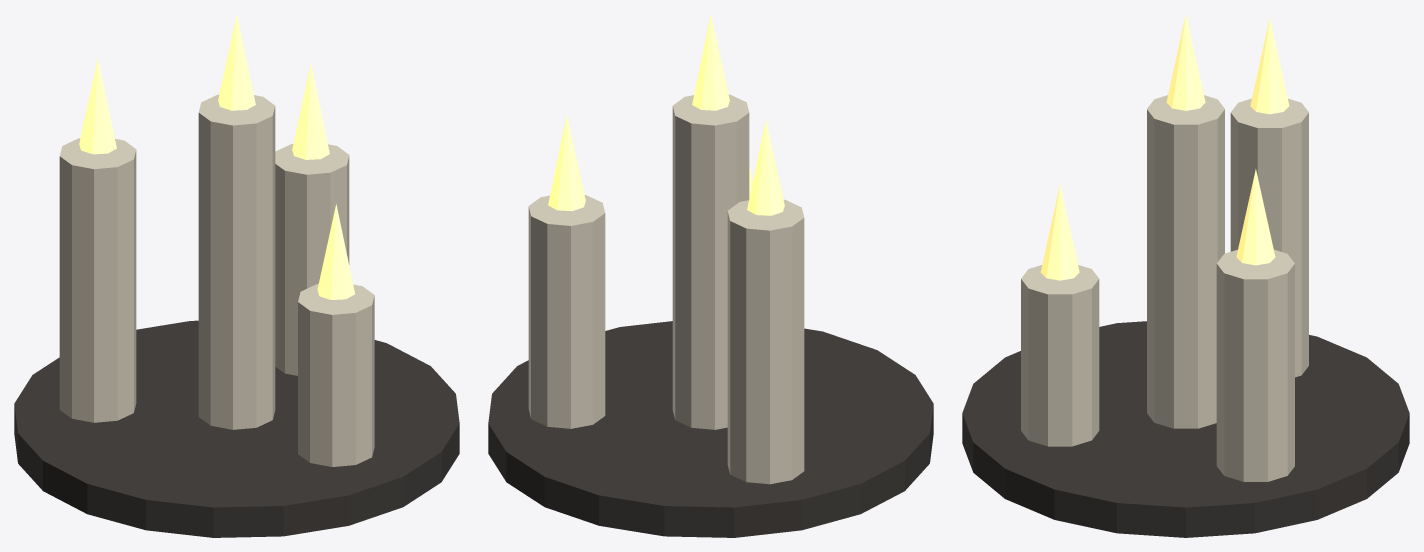
File: candles.glb
3 views of the same model, side by side, from view 1: azimuth 30°, elevation 25°; view 2: azimuth 150°, elevation 25°; view 3: azimuth 270°, elevation 25° (orthographic).
Visible parts, largest first — view 1: Cylinder, Cylinder.001, Cylinder.003, Cylinder.004, Cylinder.002, Cone.001, Cone, Cone.002, Cone.003; view 2: Cylinder, Cylinder.003, Cylinder.001, Cylinder.002, Cone, Cone.002, Cone.001; view 3: Cylinder, Cylinder.001, Cylinder.002, Cylinder.004, Cylinder.003, Cone.001, Cone.003, Cone.002, Cone.
Part boxes in pixels (box(x1,y1,x2,y2)): Cylinder: box(14, 320, 459, 537); Cylinder.001: box(198, 94, 275, 429); Cylinder.003: box(59, 138, 136, 422); Cylinder.004: box(298, 284, 374, 466); Cylinder.002: box(275, 144, 349, 375); Cone.001: box(292, 64, 329, 159); Cone: box(218, 15, 255, 110); Cone.002: box(79, 58, 116, 154); Cone.003: box(317, 204, 354, 299); Cylinder: box(488, 321, 933, 537); Cylinder.003: box(727, 199, 804, 484); Cylinder.001: box(672, 94, 749, 429); Cylinder.002: box(528, 195, 605, 428); Cone: box(692, 15, 729, 110); Cone.002: box(747, 120, 784, 215); Cone.001: box(548, 115, 585, 211); Cylinder: box(962, 321, 1409, 537); Cylinder.001: box(1147, 95, 1224, 428); Cylinder.002: box(1216, 249, 1294, 481); Cylinder.004: box(1021, 265, 1099, 446); Cylinder.003: box(1230, 98, 1308, 377); Cone.001: box(1236, 169, 1275, 265); Cone.003: box(1040, 184, 1079, 280); Cone.002: box(1250, 18, 1289, 114); Cone: box(1166, 15, 1205, 110).
Size of the model in its own units: 0.16 by 0.1695 by 0.16.
